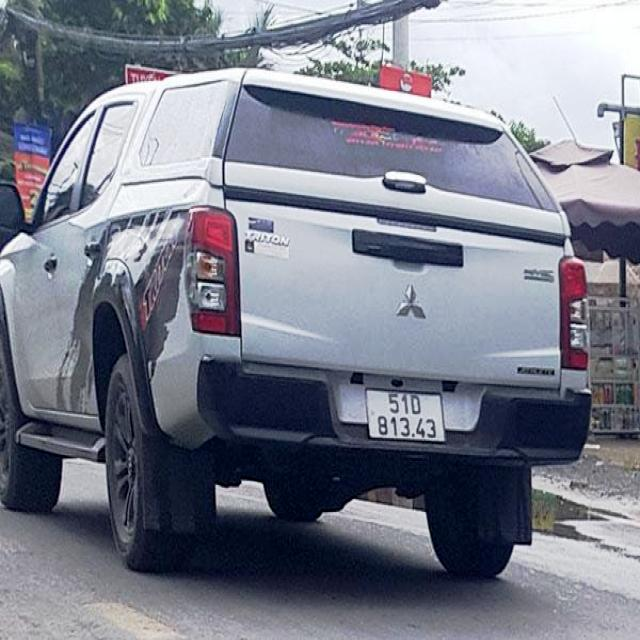license_plate: (365, 390, 446, 443)
